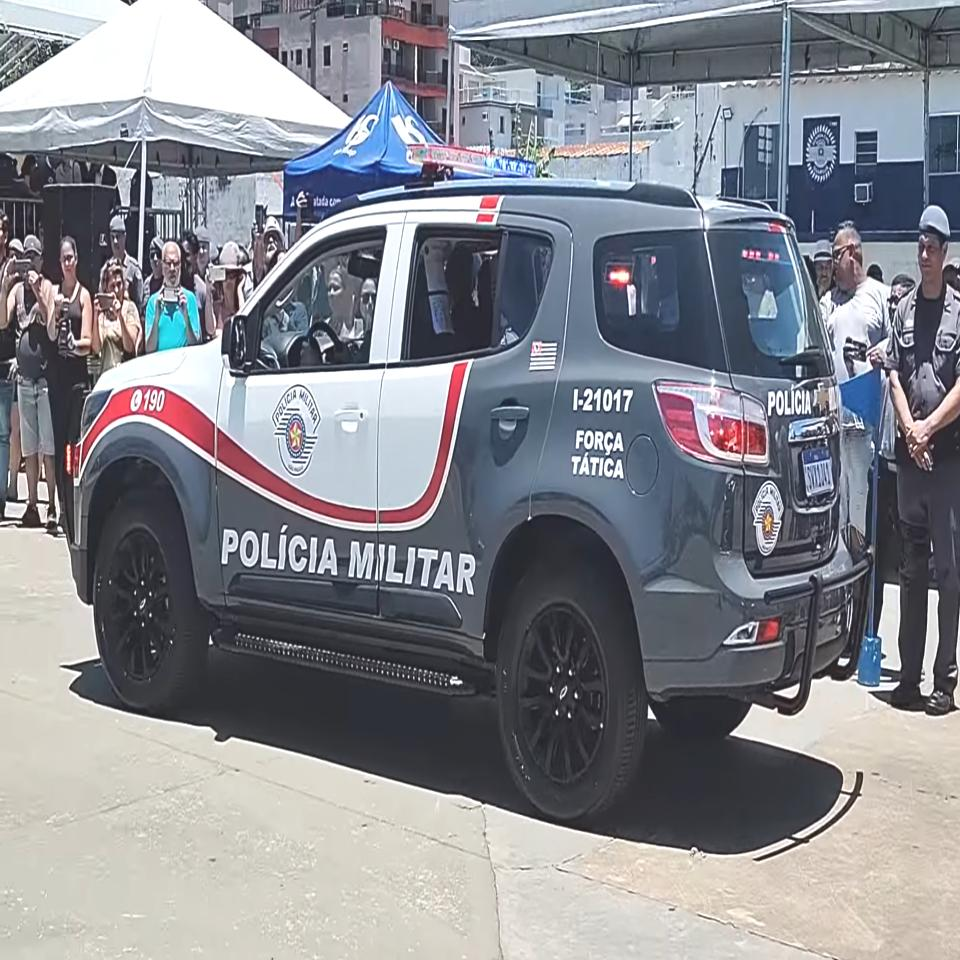viatura: (71, 136, 865, 815)
